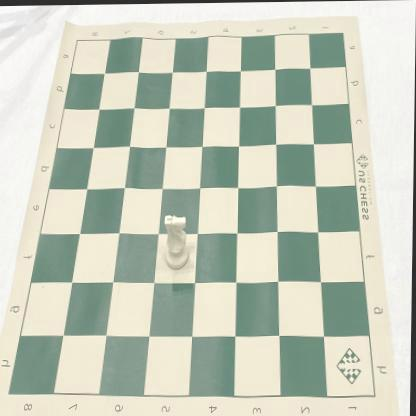white-knight: (164, 214, 191, 270)
